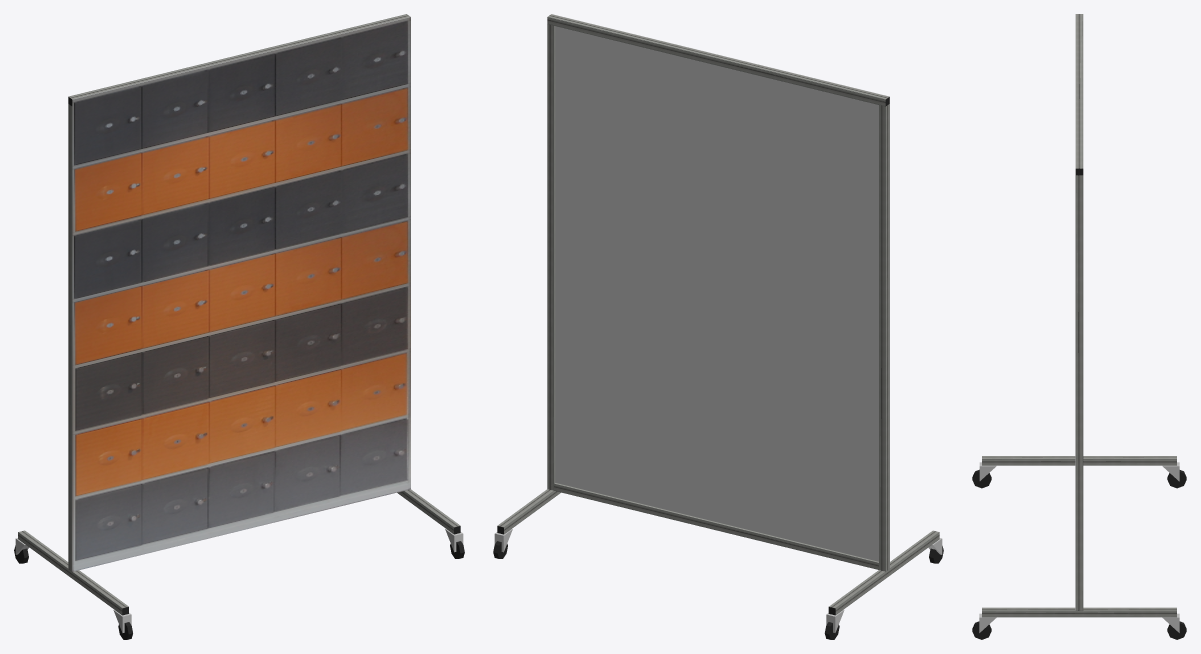
File: textured_panel_1_5m.dae
3 views of the same model, side by side, from view 1: azimuth 30°, elevation 25°; view 2: azimuth 150°, elevation 25°; view 3: azimuth 270°, elevation 25° (orthographic). The views are drawn at different scales.
Parts seen in each view (by area): view 1: instance_0, instance_6; view 2: instance_1, instance_6, instance_0; view 3: instance_6, instance_0.
Boxes of the visible parts, bbox=[...] form: instance_0: bbox=[72, 17, 410, 571]; instance_6: bbox=[18, 14, 460, 614]; instance_1: bbox=[555, 26, 878, 561]; instance_6: bbox=[497, 14, 939, 614]; instance_0: bbox=[551, 14, 889, 568]; instance_6: bbox=[982, 14, 1176, 617]; instance_0: bbox=[1075, 14, 1075, 610].
Size of the model in its own units: 59.45 by 34.65 by 84.06.
